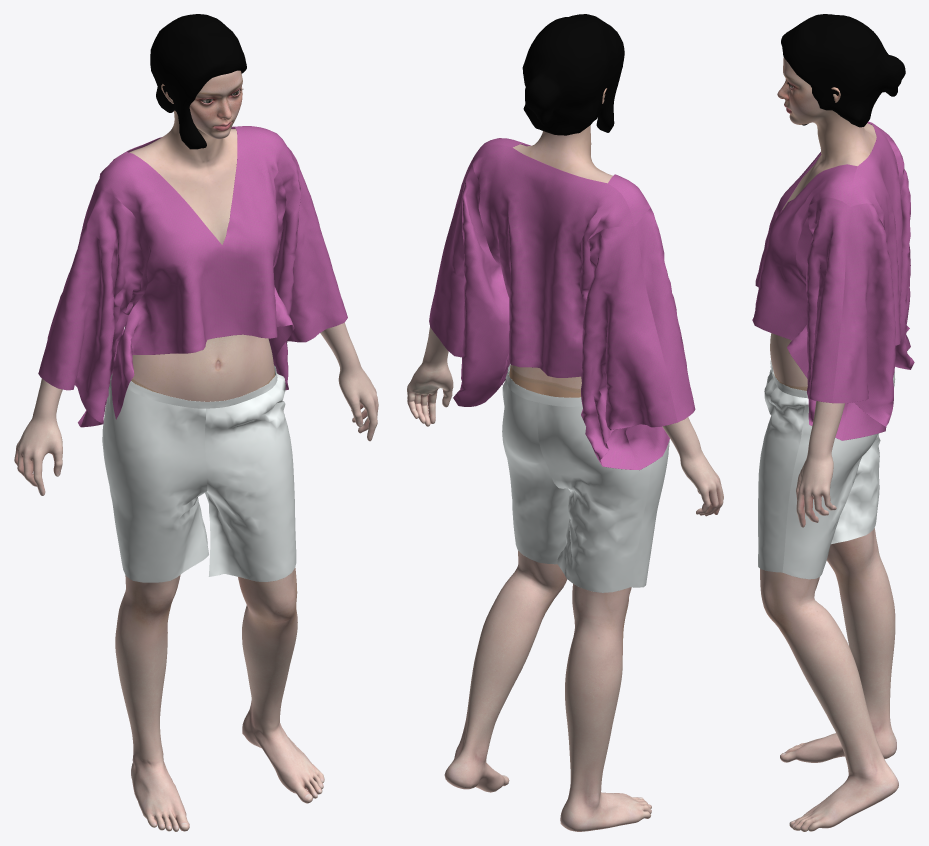
Rendered from Custom_View_7__FV2_07.obj.
3 renders of one model, left to right at view 1: azimuth 30°, elevation 25°; view 2: azimuth 150°, elevation 25°; view 3: azimuth 270°, elevation 25°, orthographic. The views are drawn at different scales.
Size of the model in its own units: 775 by 1773 by 340.
